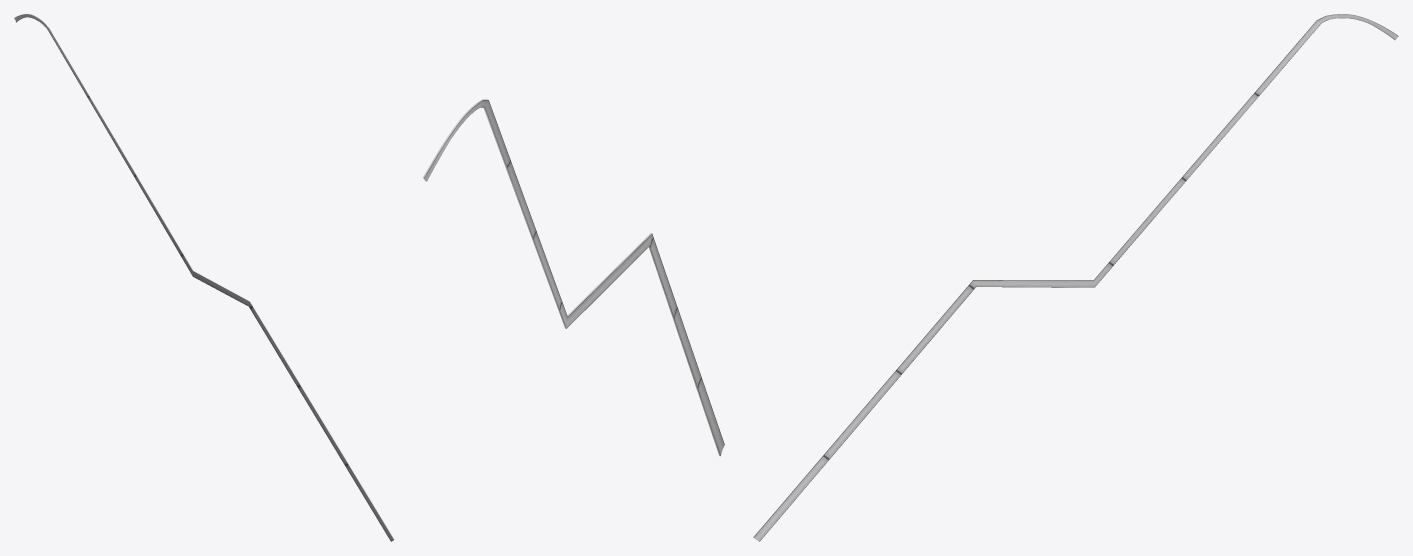
Rendered from STA20_RAILINGOfficeB02.FBX.
3 renders of one model, left to right at view 1: azimuth 30°, elevation 25°; view 2: azimuth 150°, elevation 25°; view 3: azimuth 270°, elevation 25°, orthographic. The views are drawn at different scales.
Parts seen in each view (by area): view 1: STA20_RAILINGOfficeB02; view 2: STA20_RAILINGOfficeB02; view 3: STA20_RAILINGOfficeB02.
Part boxes in pixels (<box>): STA20_RAILINGOfficeB02: <box>14,14,394,541</box>; STA20_RAILINGOfficeB02: <box>423,99,724,456</box>; STA20_RAILINGOfficeB02: <box>753,14,1398,541</box>.
Size of the model in its own units: 7.28 by 22.53 by 28.68.
